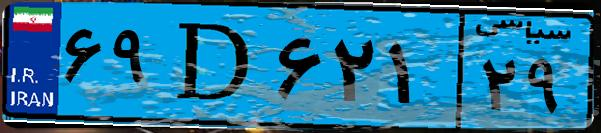1: (385, 28, 445, 110)
2: (330, 28, 385, 110), (475, 38, 525, 113)
6: (270, 28, 330, 110), (57, 26, 110, 100)
9: (525, 38, 570, 115), (110, 28, 158, 98)
D: (158, 12, 270, 120)
